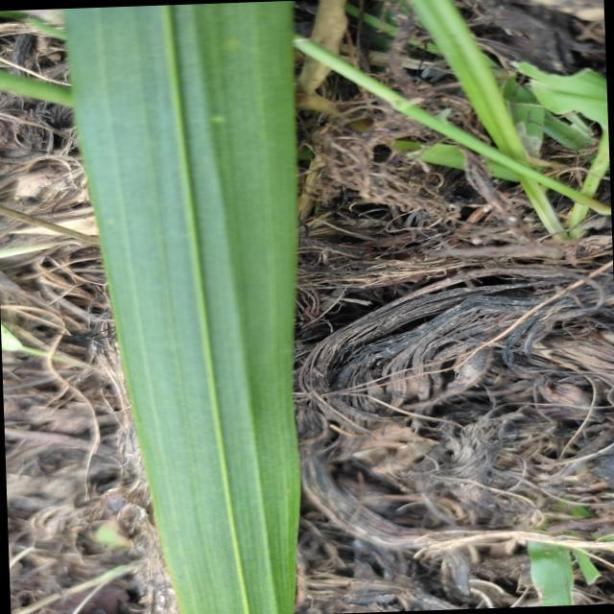Healthy: (64, 5, 297, 614)
